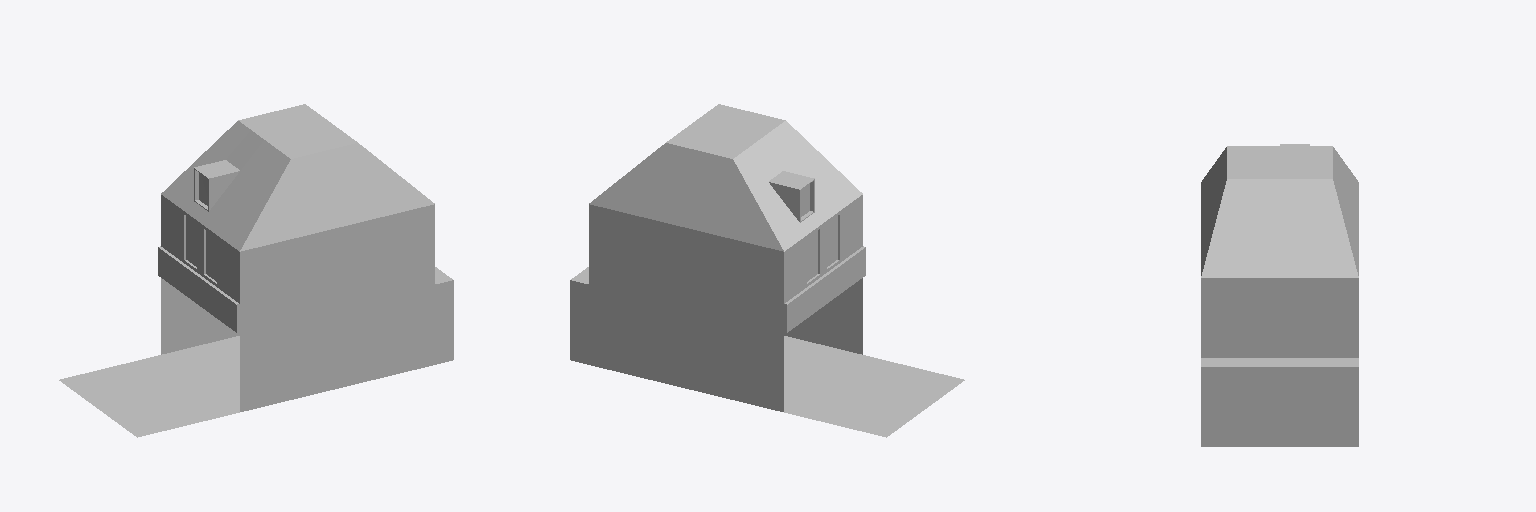
File: bakery.obj
The picture shows the model from 3 angles: view 1: azimuth 30°, elevation 25°; view 2: azimuth 150°, elevation 25°; view 3: azimuth 270°, elevation 25°; orthographic projection.
Parts seen in each view (by area): view 1: Plane001; view 2: Plane001; view 3: Plane001.
Part boxes in pixels (x1,y1,x2,y2): Plane001: (59, 104, 453, 437); Plane001: (570, 104, 964, 437); Plane001: (1201, 144, 1358, 446).
Bounding box in the file's own units: 639 × 441 × 276.